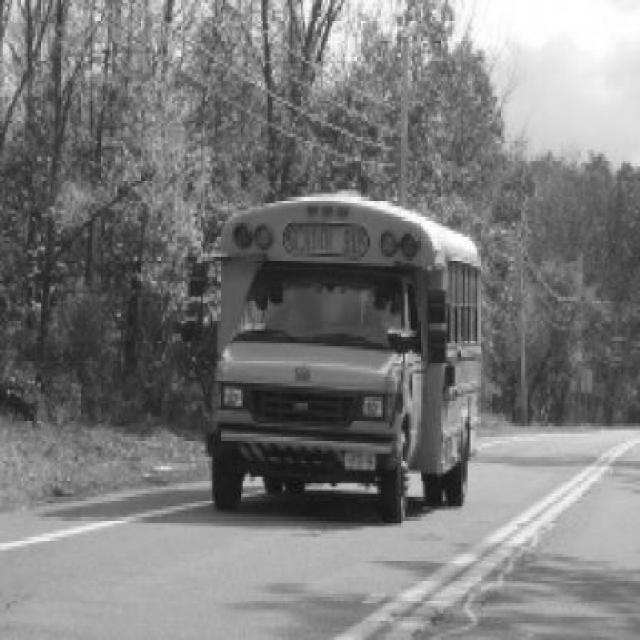Bus- Small: (180, 195, 484, 525)
